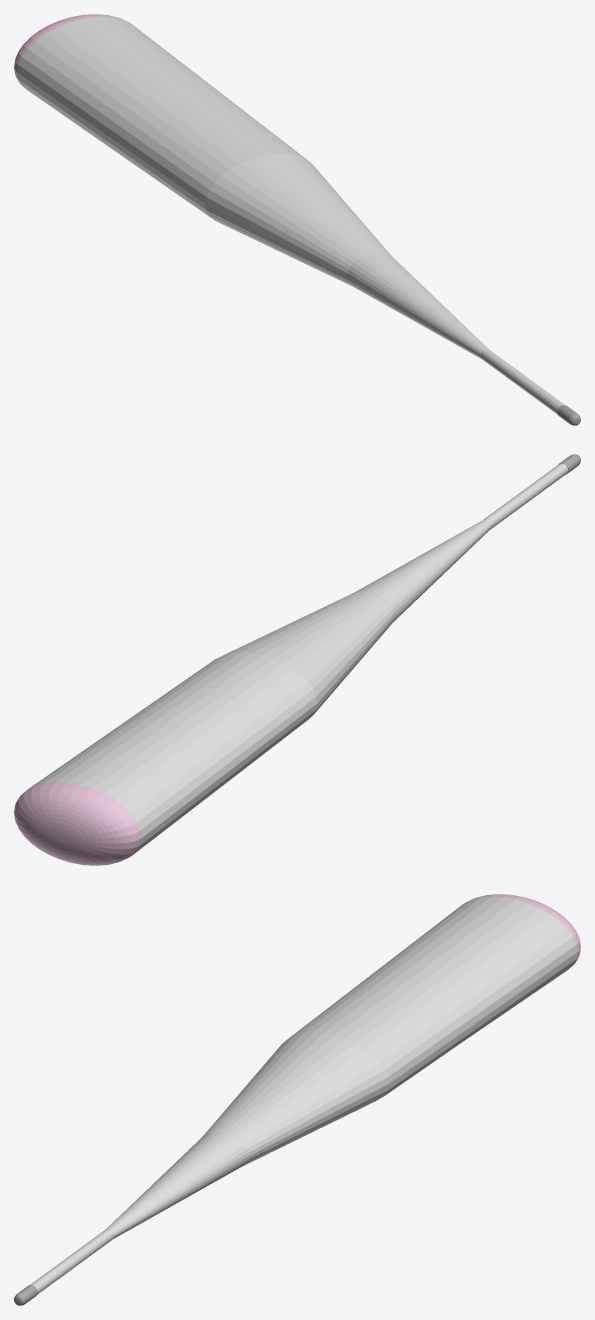
Rendered from THERMOblend (1).fbx.
3 renders of one model, top to bottom at view 1: azimuth 30°, elevation 25°; view 2: azimuth 150°, elevation 25°; view 3: azimuth 330°, elevation 25°, orthographic.
Visible parts, largest first — view 1: Cylinder, Cylinder.004; view 2: Cylinder, Cylinder.004; view 3: Cylinder, Cylinder.004.
Boxes of the visible parts, x1,y1,x2,y2 form: Cylinder: [17, 16, 564, 414]; Cylinder.004: [14, 14, 129, 84]; Cylinder: [29, 463, 568, 854]; Cylinder.004: [14, 782, 141, 865]; Cylinder: [30, 896, 577, 1294]; Cylinder.004: [465, 894, 580, 964].
Bounding box in the file's own units: 42.99 × 24.71 × 308.
